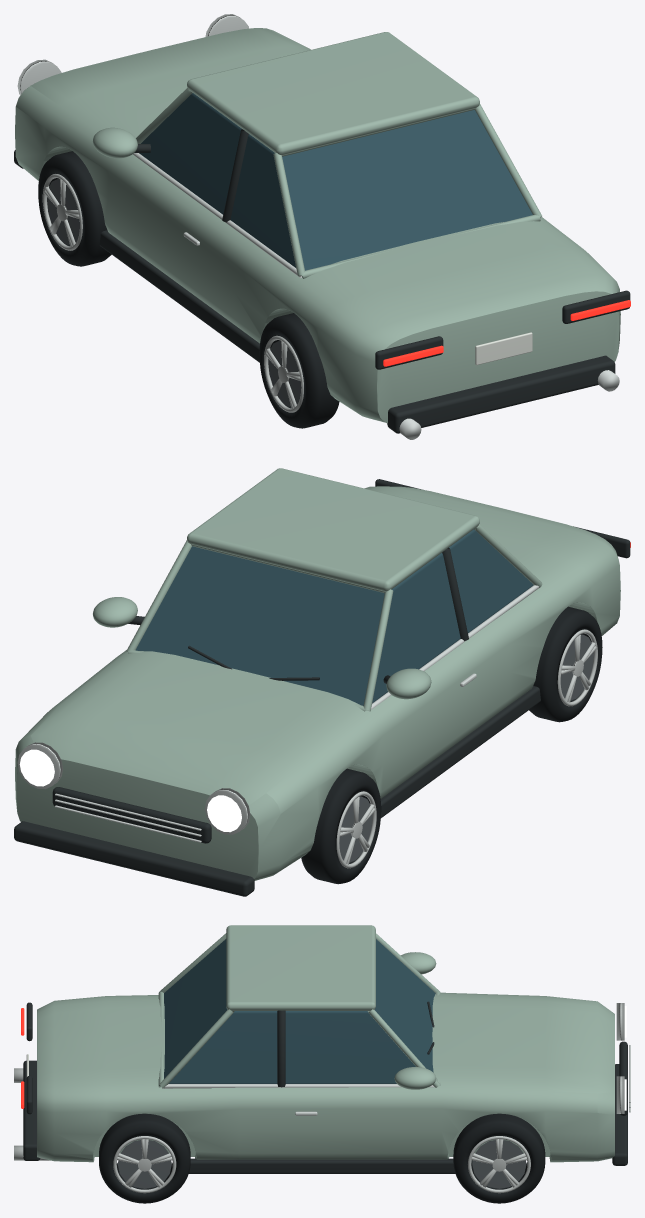
File: mist-gt.glb
3 renders of one model, top to bottom at view 1: azimuth 30°, elevation 25°; view 2: azimuth 150°, elevation 25°; view 3: azimuth 270°, elevation 25°, orthographic. The views are drawn at different scales.
Parts seen in each view (by area): view 1: mist-gt_Paint, mist-gt_Smoked glass, mist-gt_Graphite, Spin_RL_Rubber, Spin_FL_Rubber, mist-gt_Satin aluminium, Spin_FL_WheelFinish, Spin_RL_WheelFinish, mist-gt_Ivory, Spin_FL_Brake steel, Spin_RL_Brake steel, mist-gt_Tail lamp; view 2: mist-gt_Paint, mist-gt_Smoked glass, mist-gt_Graphite, Spin_FL_Rubber, Spin_RL_Rubber, mist-gt_Satin aluminium, mist-gt_Headlamp, Spin_FL_WheelFinish, Spin_RL_WheelFinish, Spin_FL_Brake steel, Spin_RL_Brake steel; view 3: mist-gt_Paint, mist-gt_Smoked glass, mist-gt_Graphite, Spin_RR_Rubber, Spin_FR_Rubber, mist-gt_Satin aluminium, Spin_RR_WheelFinish, Spin_FR_WheelFinish, Spin_RR_Brake steel, Spin_FR_Brake steel.
Part boxes in pixels (<box>): mist-gt_Paint: <box>15,28,620,422</box>; mist-gt_Smoked glass: <box>139,93,532,270</box>; mist-gt_Graphite: <box>14,129,630,433</box>; Spin_RL_Rubber: <box>259,313,339,428</box>; Spin_FL_Rubber: <box>38,151,111,266</box>; mist-gt_Satin aluminium: <box>17,14,619,439</box>; Spin_FL_WheelFinish: <box>42,174,82,250</box>; Spin_RL_WheelFinish: <box>264,335,303,412</box>; mist-gt_Ivory: <box>475,332,532,365</box>; Spin_FL_Brake steel: <box>47,179,79,244</box>; Spin_RL_Brake steel: <box>268,340,301,406</box>; mist-gt_Tail lamp: <box>383,300,630,366</box>; mist-gt_Paint: <box>15,468,620,880</box>; mist-gt_Smoked glass: <box>135,529,533,705</box>; mist-gt_Graphite: <box>14,479,630,896</box>; Spin_FL_Rubber: <box>301,768,381,884</box>; Spin_RL_Rubber: <box>529,606,602,722</box>; mist-gt_Satin aluminium: <box>17,585,539,842</box>; mist-gt_Headlamp: <box>19,749,241,832</box>; Spin_FL_WheelFinish: <box>336,791,376,868</box>; Spin_RL_WheelFinish: <box>557,629,597,706</box>; Spin_FL_Brake steel: <box>339,796,372,862</box>; Spin_RL_Brake steel: <box>560,634,593,700</box>; mist-gt_Paint: <box>37,925,614,1162</box>; mist-gt_Smoked glass: <box>164,939,435,1083</box>; mist-gt_Graphite: <box>23,1001,627,1173</box>; Spin_RR_Rubber: <box>99,1113,190,1203</box>; Spin_FR_Rubber: <box>453,1113,545,1203</box>; mist-gt_Satin aluminium: <box>14,1003,630,1160</box>; Spin_RR_WheelFinish: <box>113,1136,176,1193</box>; Spin_FR_WheelFinish: <box>468,1136,530,1193</box>; Spin_RR_Brake steel: <box>117,1140,171,1188</box>; Spin_FR_Brake steel: <box>472,1140,526,1188</box>.
Size of the model in its own units: 2.33 by 1.56 by 4.7.
